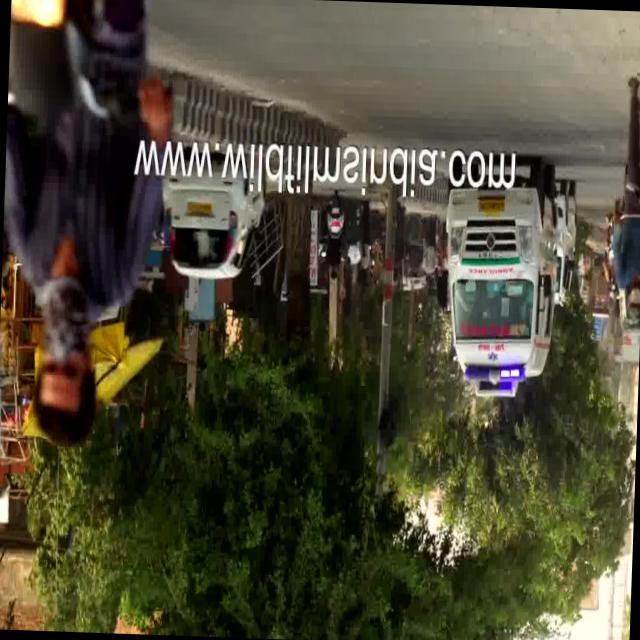ambulance: (442, 178, 564, 392)
